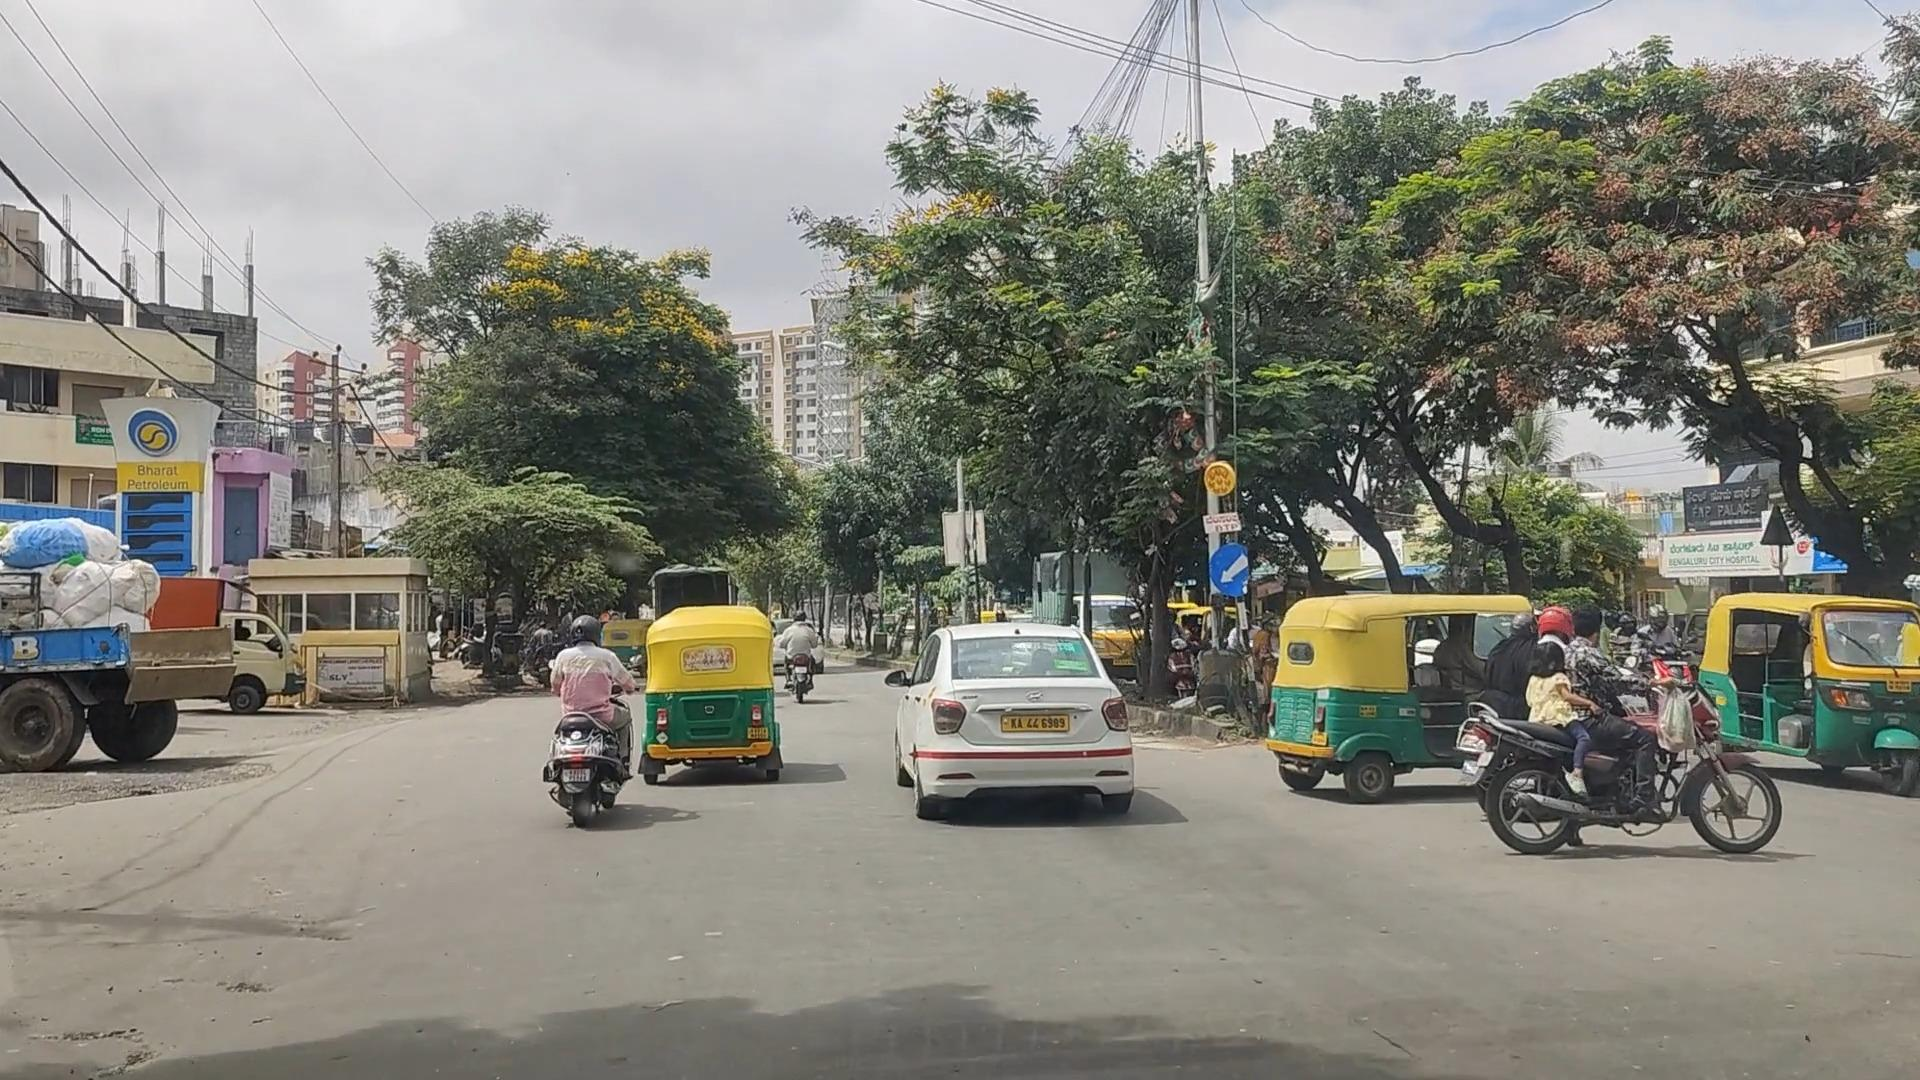LMV: (881, 646, 1143, 800), (650, 615, 782, 795), (537, 612, 642, 837)
